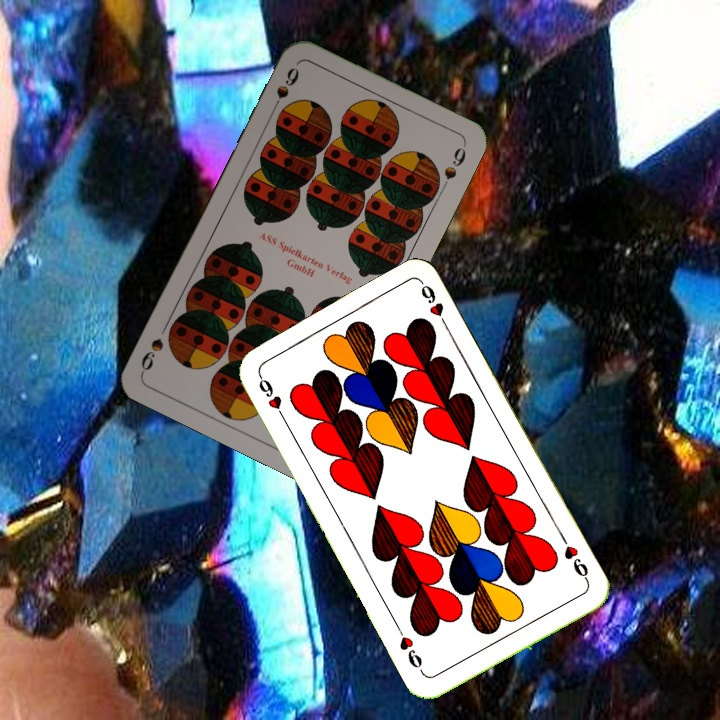H9: (558, 533, 593, 588), (254, 370, 289, 425)
S9: (267, 63, 302, 116)
